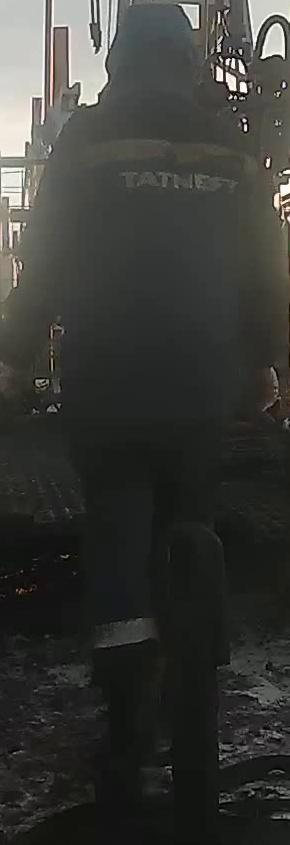gloves: (248, 358, 280, 420), (1, 355, 30, 415)
vest: (33, 93, 289, 434)
